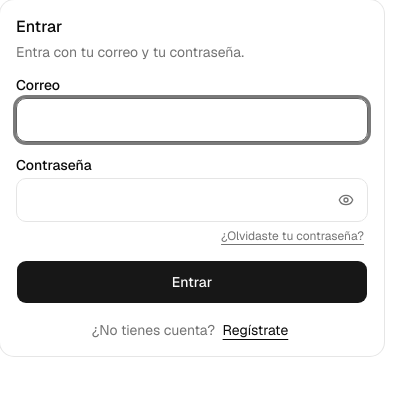
Test: FormularioEntrar › credenciales inválidas: error general, ningún campo inválido y ambos descritos
In the field labelled "Correo": point(192, 120) [16,98,368,142], type "a@b.co"
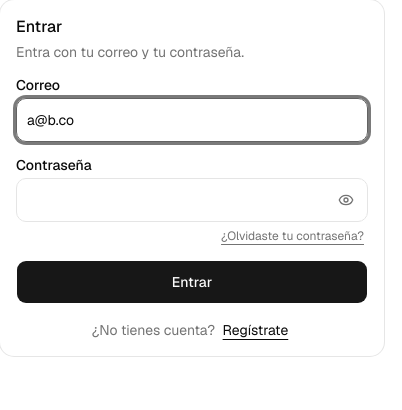
In the password field labelled "Contraseña": point(192, 200) [16,178,368,222], type "secreta123"
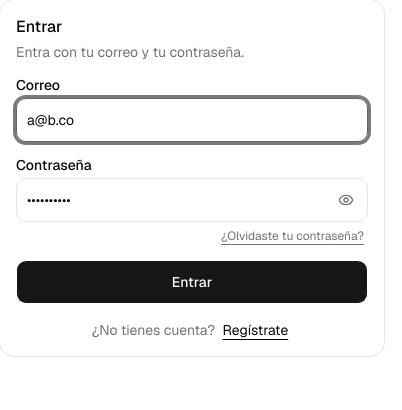
Click the button "Entrar": point(192, 282) [16,260,368,304]
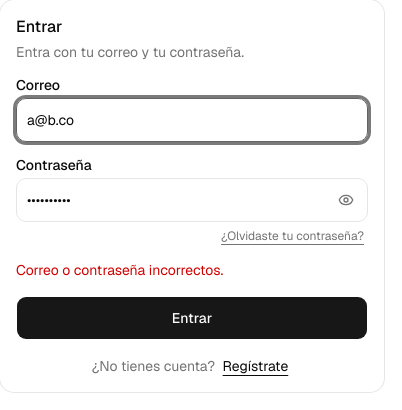
Check: the message reads "Correo o contraseña incorrectos.", box [16,261,223,279]
